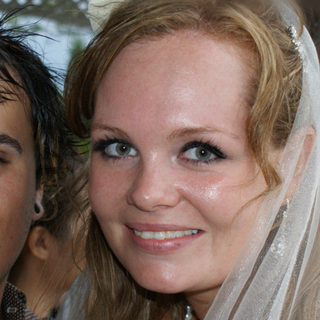eye: (169, 138, 228, 165), (94, 136, 142, 162)
